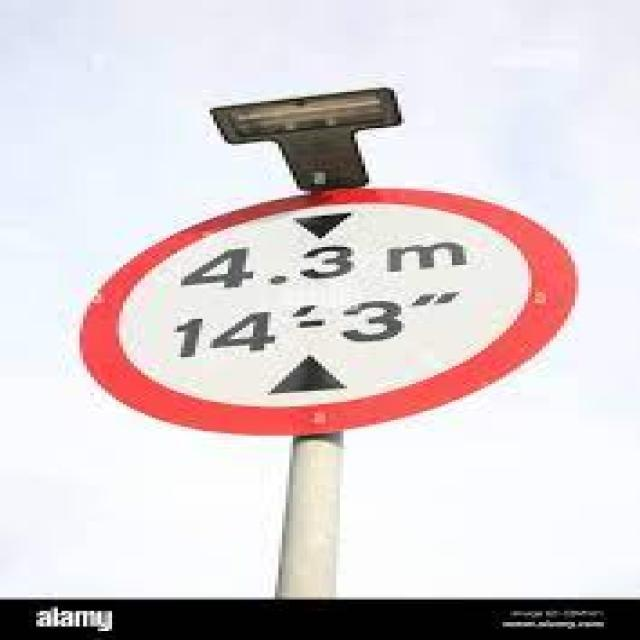height limit: (75, 188, 576, 436)
